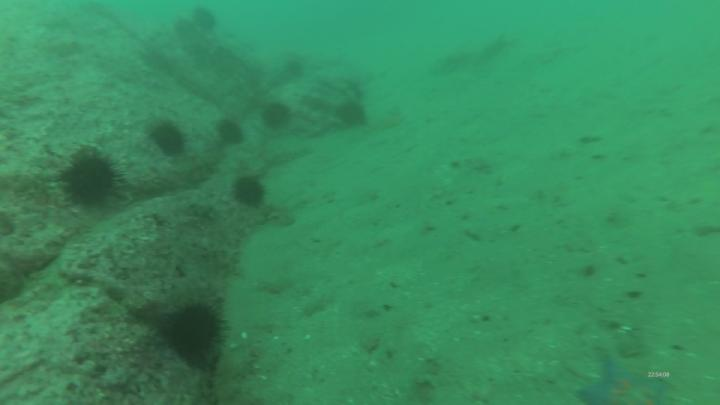echinus: (171, 308, 223, 359), (65, 160, 117, 202), (152, 127, 184, 152), (237, 178, 265, 205), (339, 101, 368, 126), (217, 120, 247, 143), (267, 105, 289, 126)
starfish: (579, 359, 662, 405)
